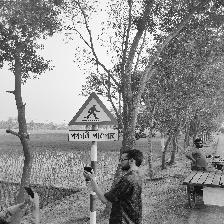Pedestrian-crossing: (68, 93, 119, 141)
